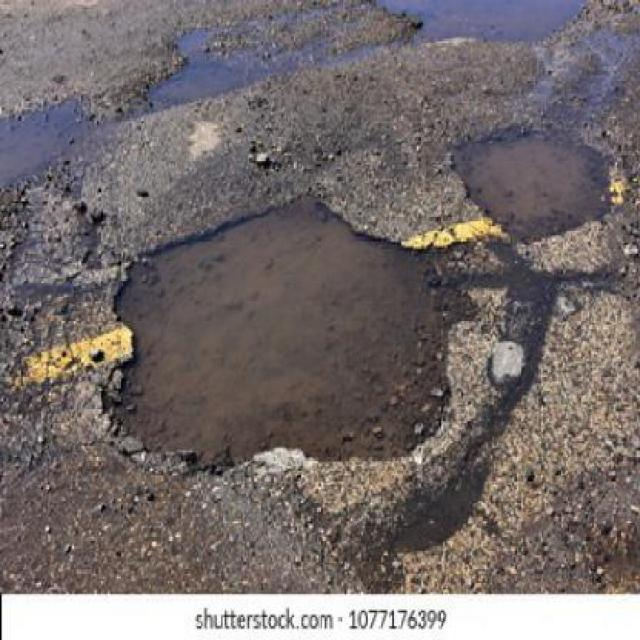Pothole: (101, 188, 474, 475), (452, 130, 614, 244), (364, 0, 596, 46), (150, 18, 258, 110)
